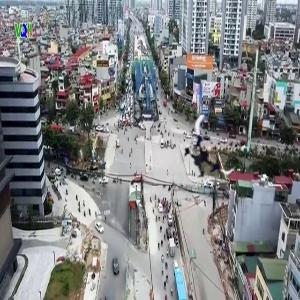drone: (175, 123, 241, 189)
